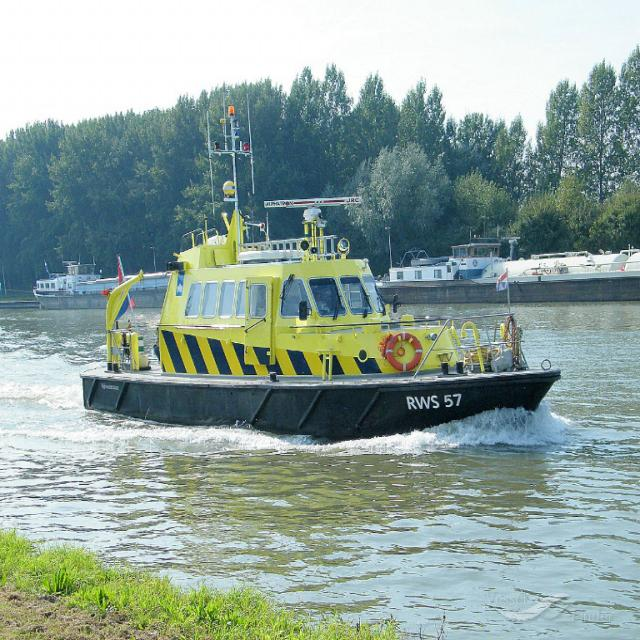OCR: (405, 389, 463, 419)
